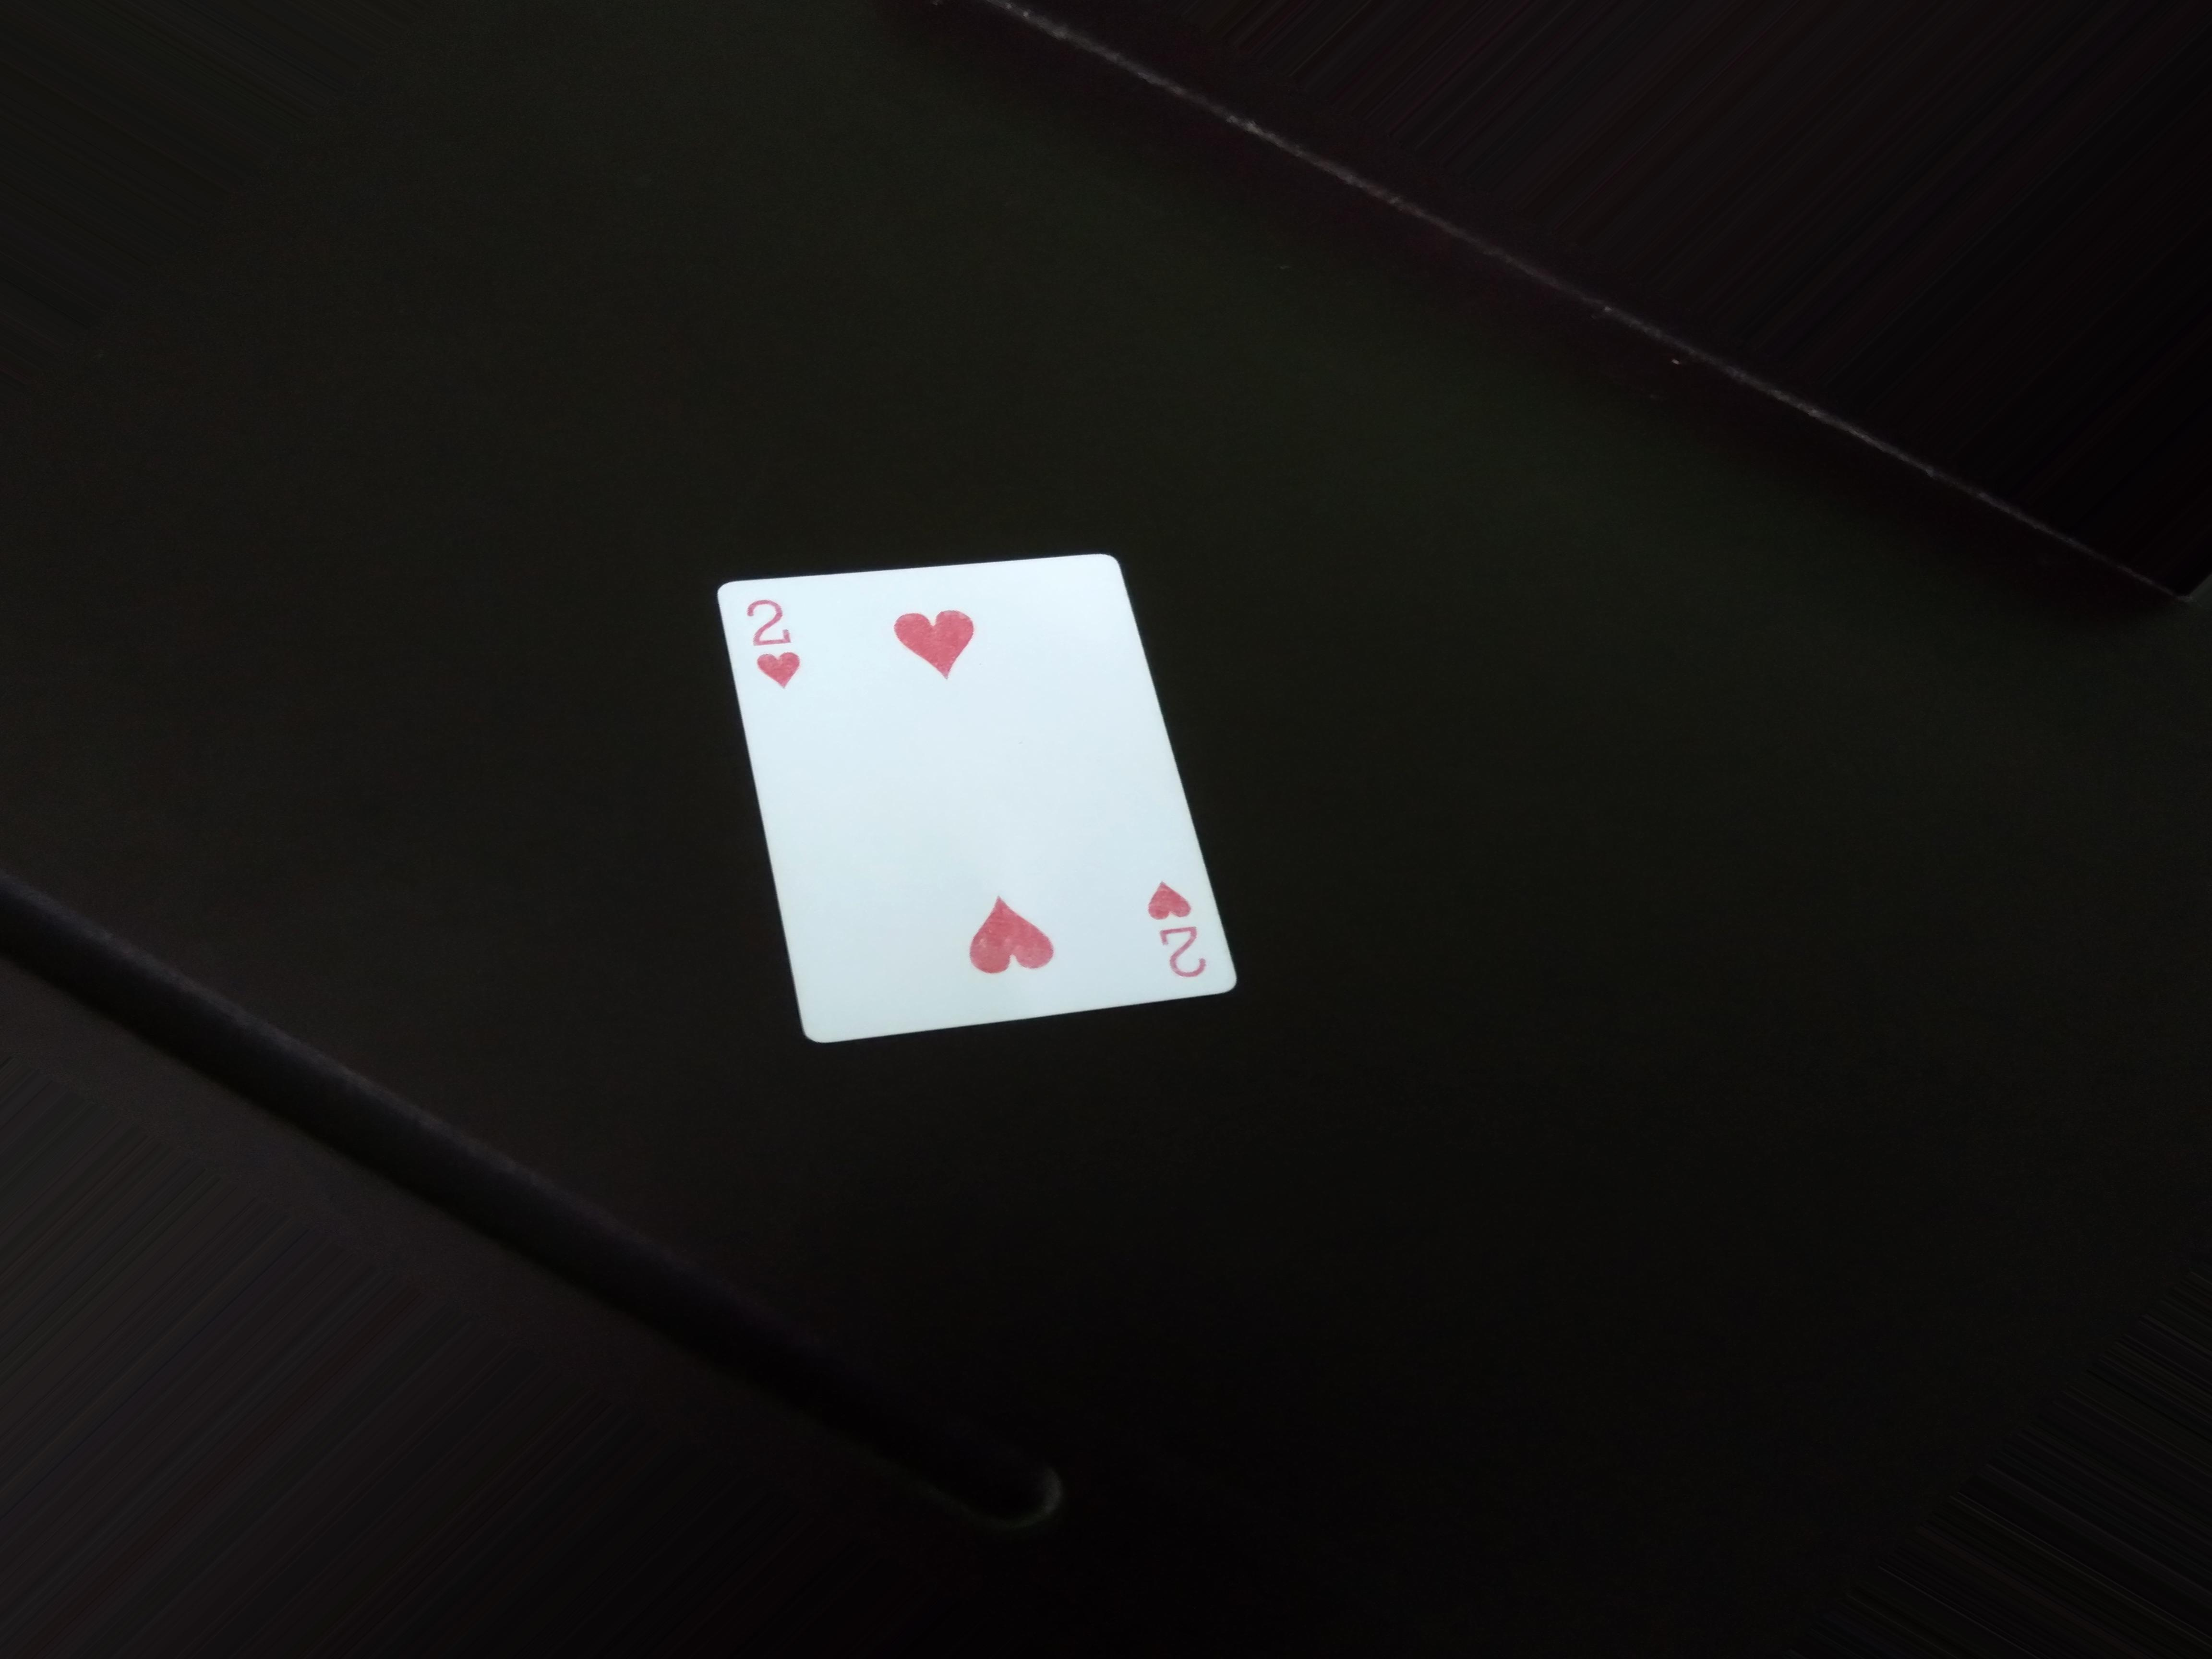2H: (721, 592, 834, 697)
